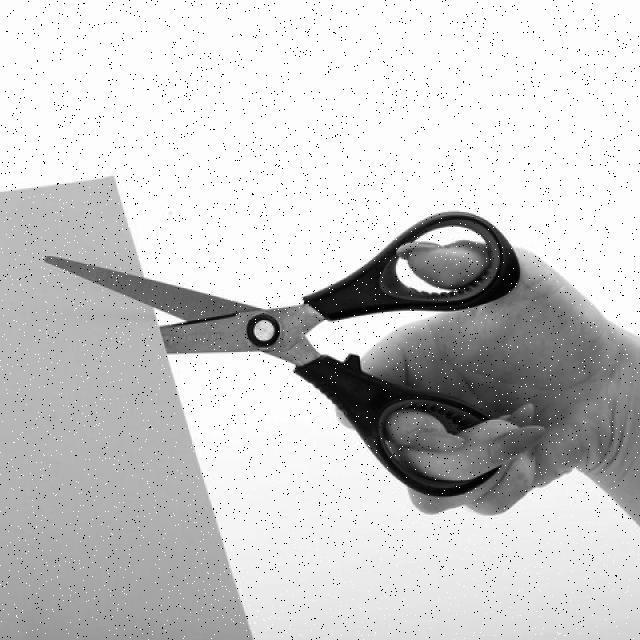scissors: (40, 204, 522, 498)
